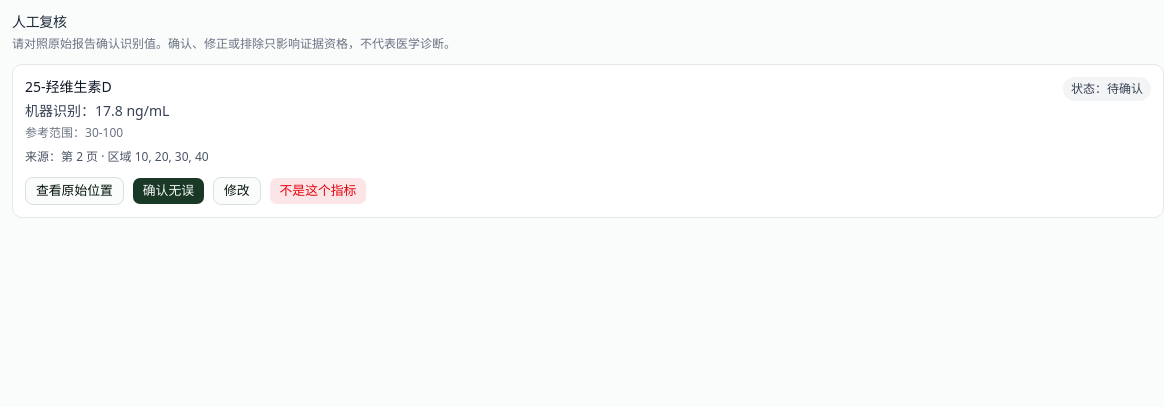
HealthDocumentReviewPanel › validates correction locally then appends corrected evidence without overwriting the machine value
Click the button "修改" at (237, 191), box [213,177,261,205]
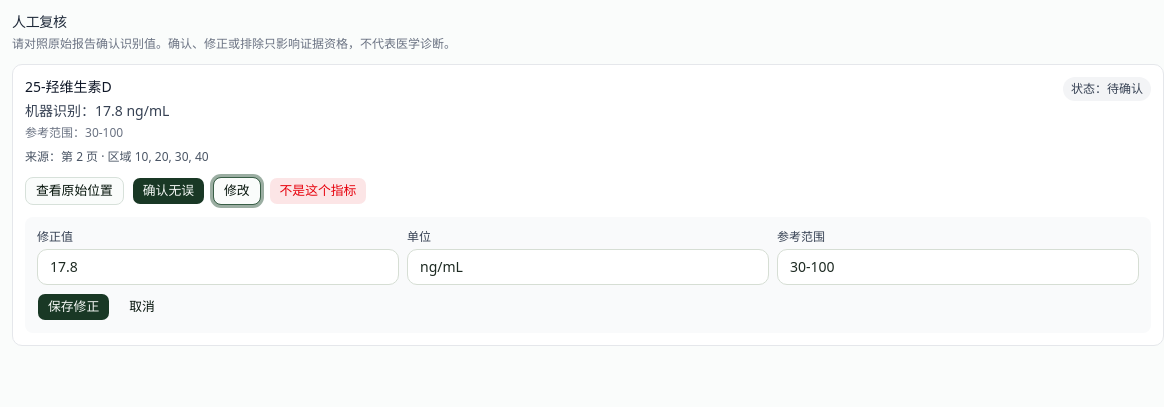
Clear the field named "25-羟维生素D 修正值" at (218, 267), box [37,249,399,285]
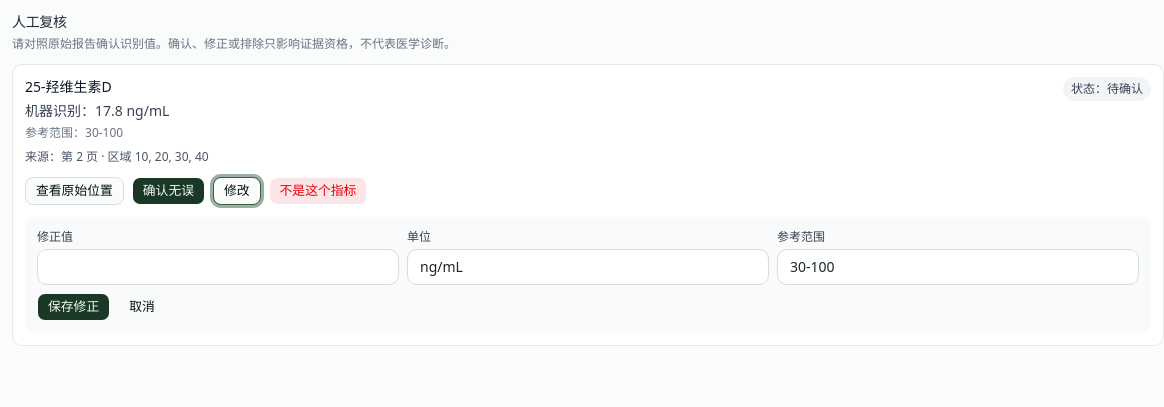
Click the button "保存修正" at (74, 307), box [37,293,110,321]
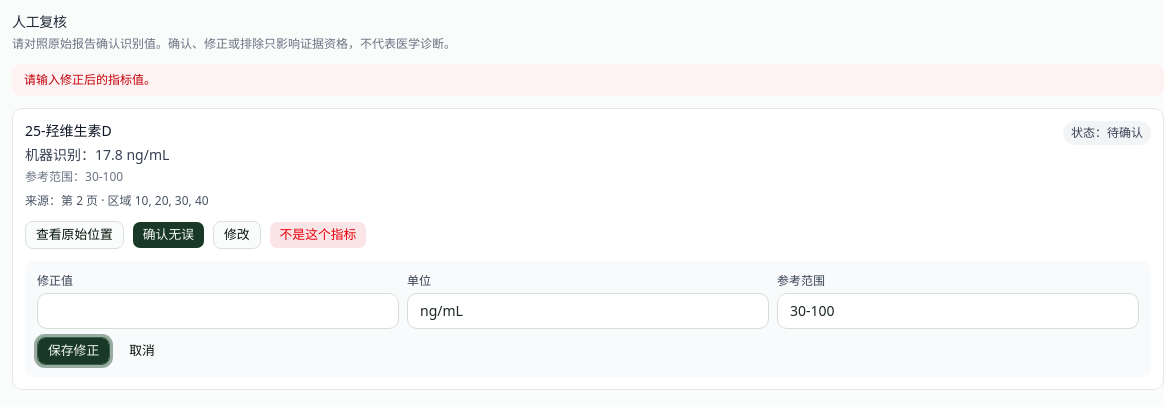
expect the message "请输入修正后的指标值。" is shown: met, box [12,64,1163,96]
Type "18.2" into the field named "25-羟维生素D 修正值" at (218, 311), box [37,293,399,329]
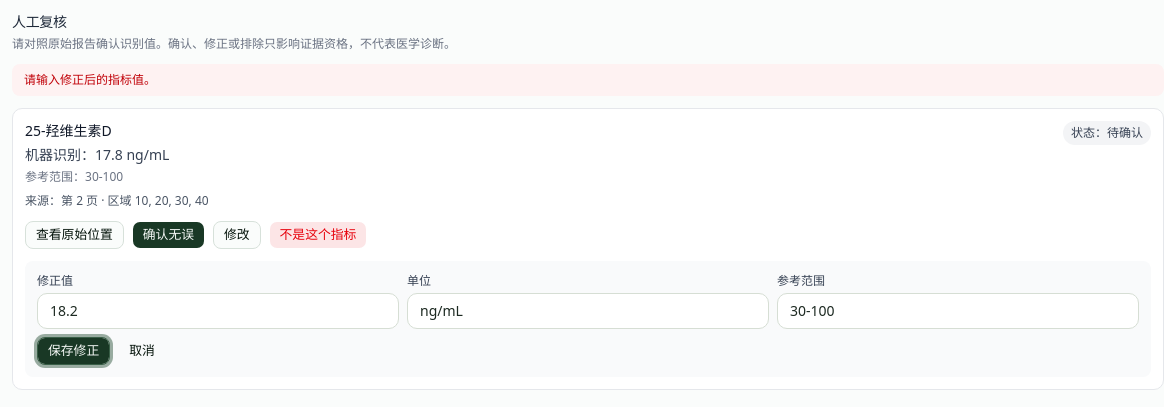
Click the button "保存修正" at (74, 351), box [37,337,110,365]
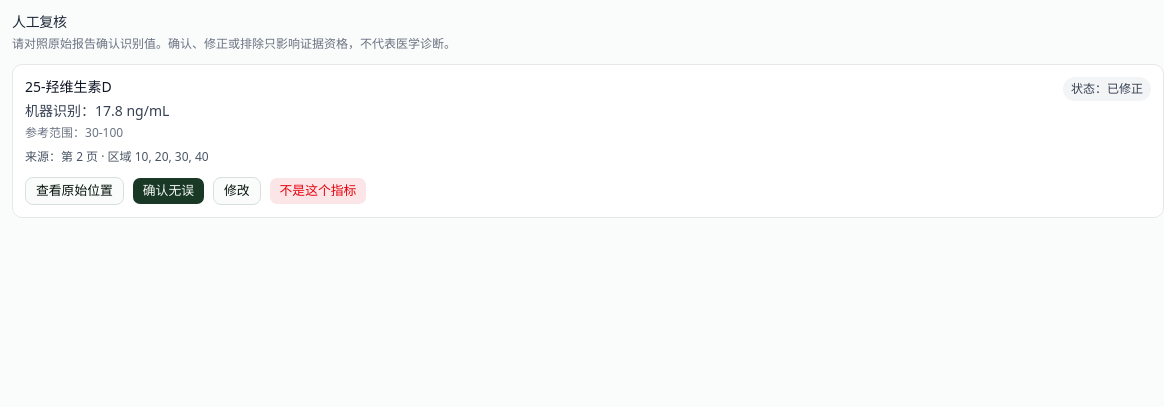
expect the text "机器识别：17.8 ng/mL" is shown: met, box [25,101,169,121]
expect the text "状态：已修正" is shown: met, box [1063,77,1151,101]
